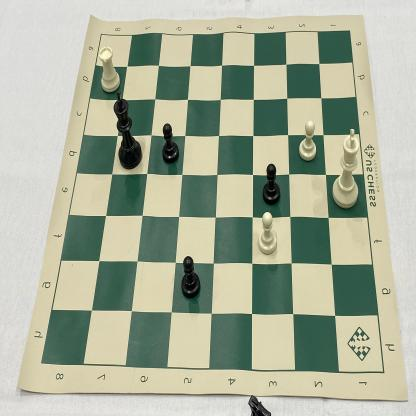black-king: (110, 90, 145, 176)
black-pawn: (179, 252, 203, 302), (259, 159, 281, 208), (158, 119, 180, 166)
white-king: (327, 126, 363, 214)
white-pawn: (254, 210, 279, 257), (297, 118, 320, 162)
white-rook: (95, 43, 121, 97)
